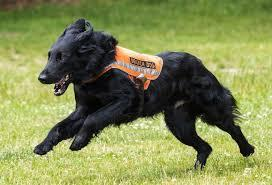Dog: (37, 15, 120, 100)
